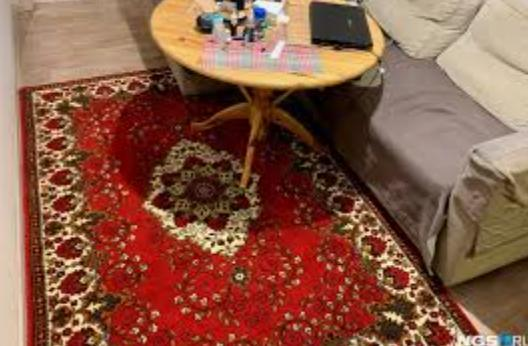carpet: (21, 69, 479, 345)
